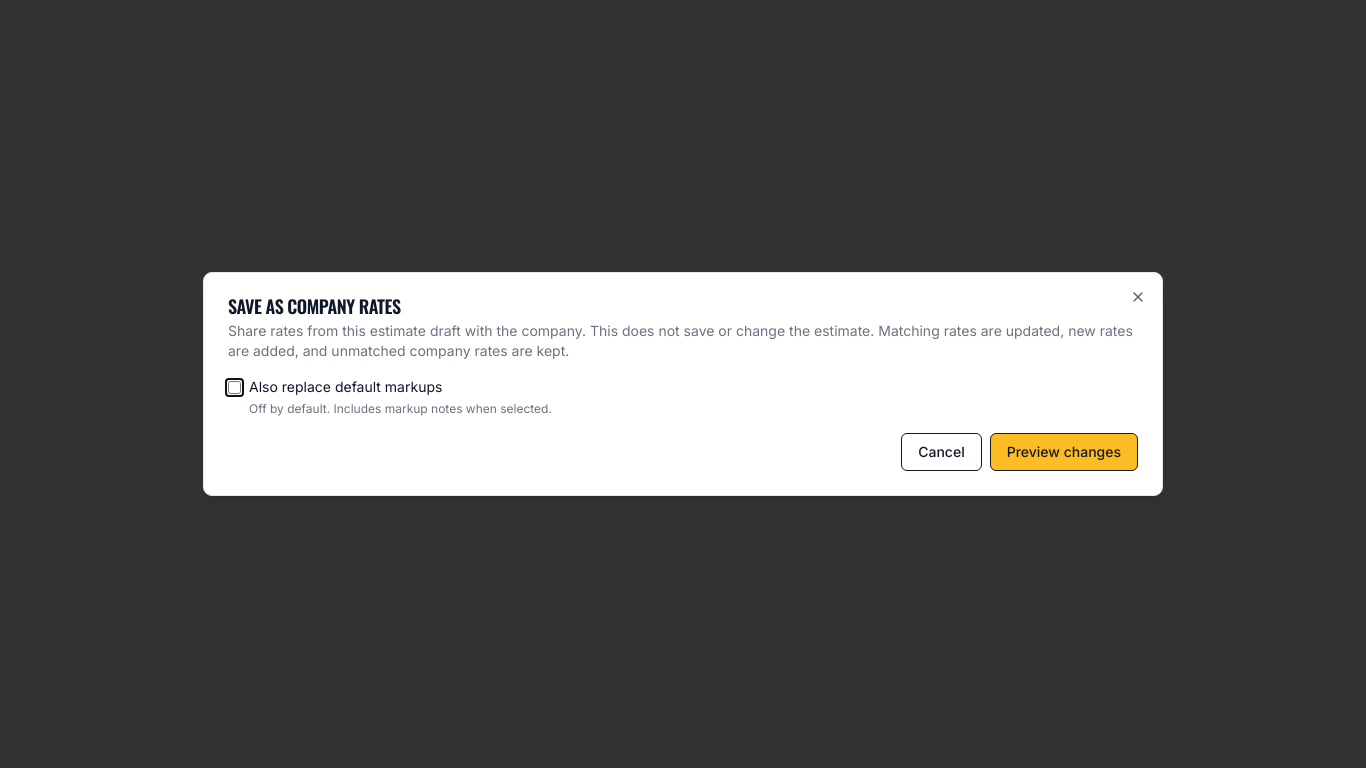
Test case: RateImportDialog › blocks confirmation with errors or without a token
Step 1. Click the button "Preview changes" → [1064, 452], box [990,433,1138,471]
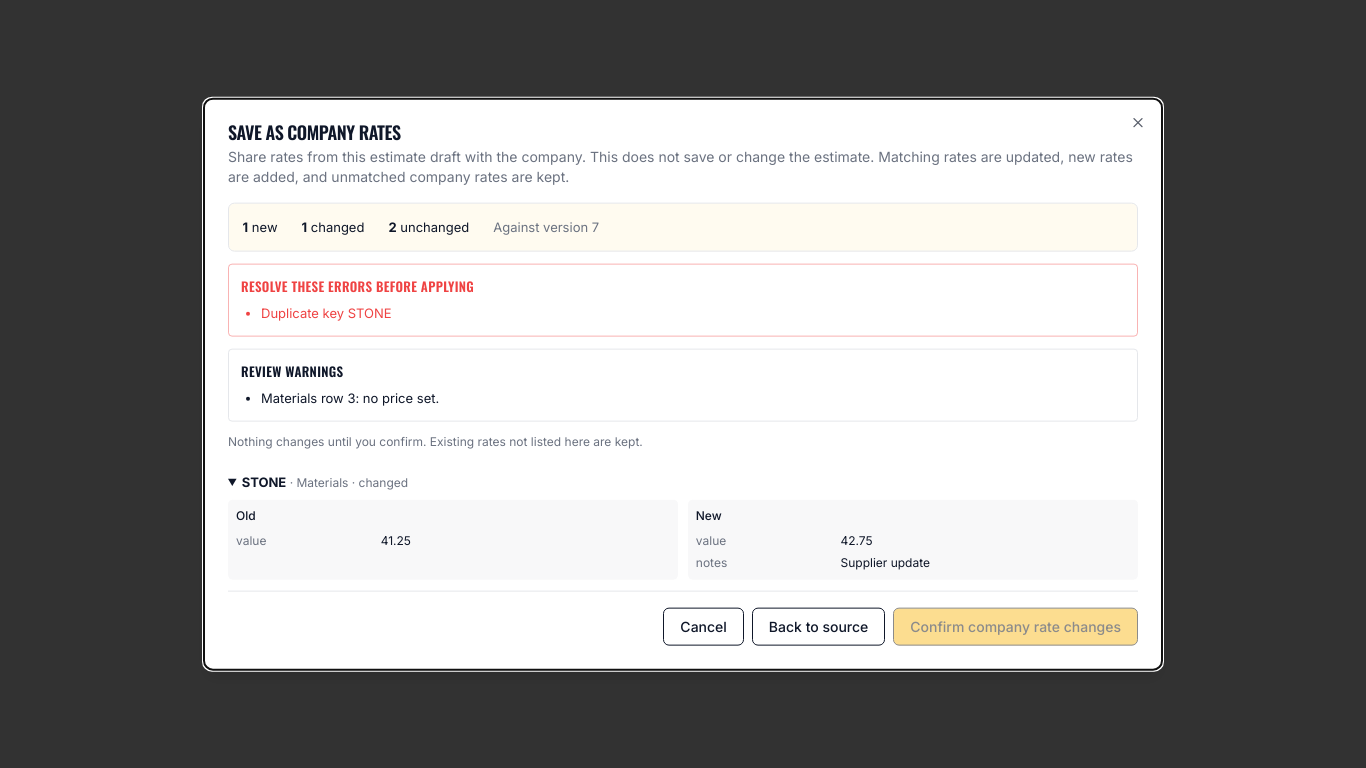
Check: the button "Confirm company rate changes" is disabled, box [893,607,1138,645]
